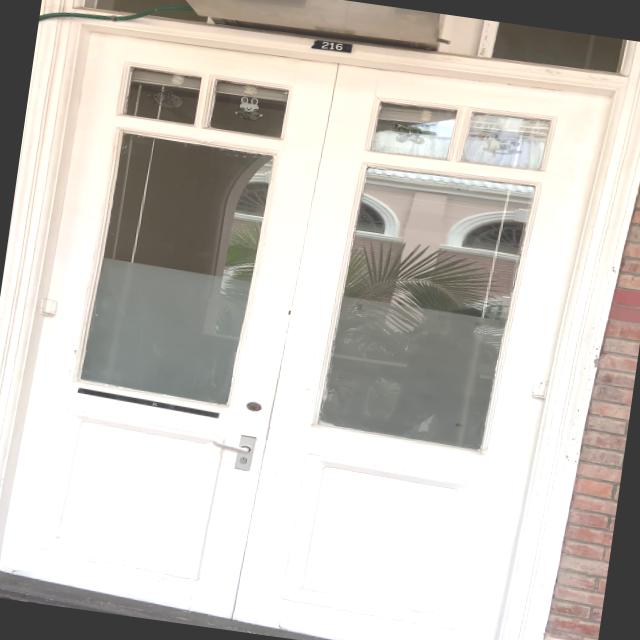room216: (310, 35, 358, 56)
